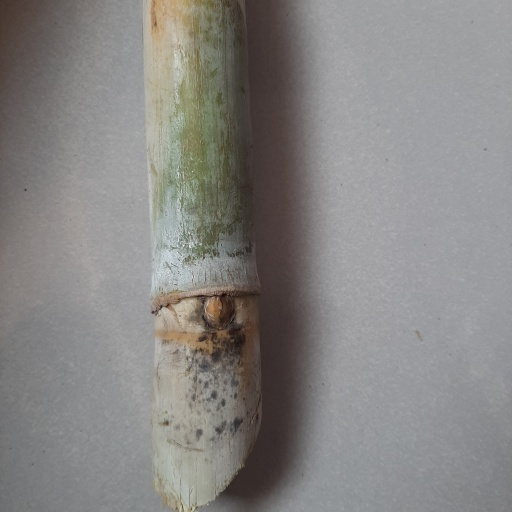Bud: (201, 296, 236, 331)
